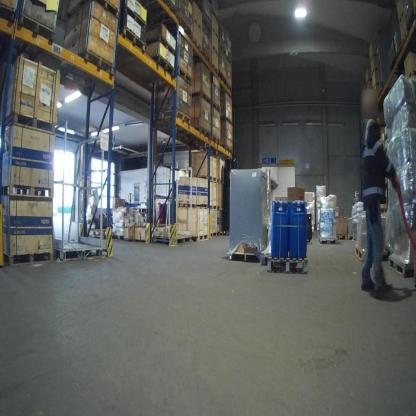pallets: (159, 106, 227, 146), (319, 234, 367, 263), (10, 111, 59, 136), (201, 57, 238, 89), (151, 232, 212, 251), (1, 183, 54, 200), (262, 255, 308, 274), (3, 250, 54, 265), (387, 253, 414, 278), (174, 198, 224, 211), (225, 251, 261, 263), (172, 67, 191, 87)
